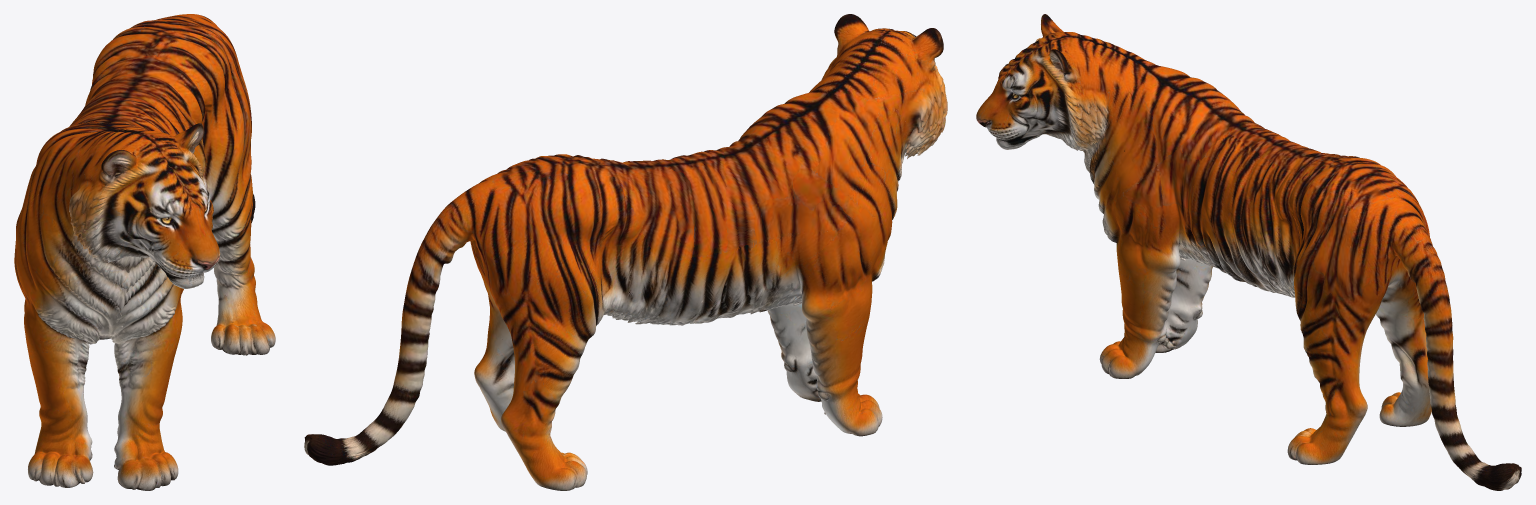
File: tiger-light.glb
The picture shows the model from 3 angles, left to right: view 1: azimuth 30°, elevation 25°; view 2: azimuth 150°, elevation 25°; view 3: azimuth 270°, elevation 25°; orthographic projection. The views are drawn at different scales.
Visible parts, largest first — view 1: tiger; view 2: tiger; view 3: tiger.
Boxes of the visible parts, left/top/right/bottom form: tiger: left=14, top=14, right=275, bottom=490; tiger: left=304, top=14, right=947, bottom=490; tiger: left=976, top=14, right=1521, bottom=490.
Bounding box in the file's own units: 1.48 × 1.24 × 1.9.
1 material, 1 textured.
